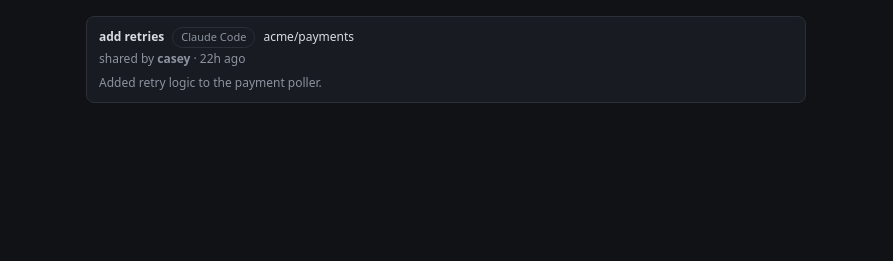
it: TeamView › opens the read-only record with artifact and transcript, and goes back
The width and height of the screenshot is (893, 261).
Click the button with test id "team-row": x=132, y=37 [86,16,806,102]
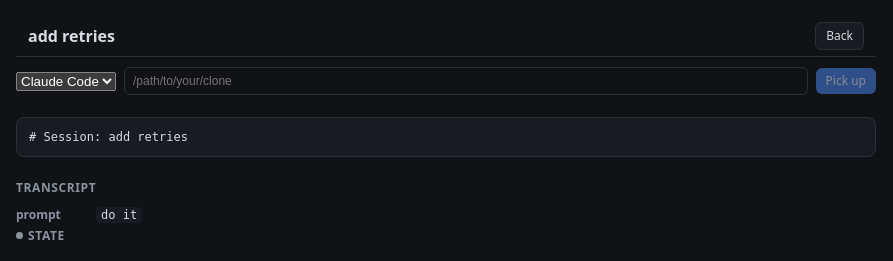
Expected: the text with test id "team-markdown" reads "# Session: add retries", [29,130,188,144]
Expected: the list with test id "team-transcript" shows "prompt", [16,206,61,223]
Expected: the list with test id "team-transcript" shows "do it", [101,208,137,222]
Click the button with test id "team-back": x=840, y=36 [815,22,864,50]
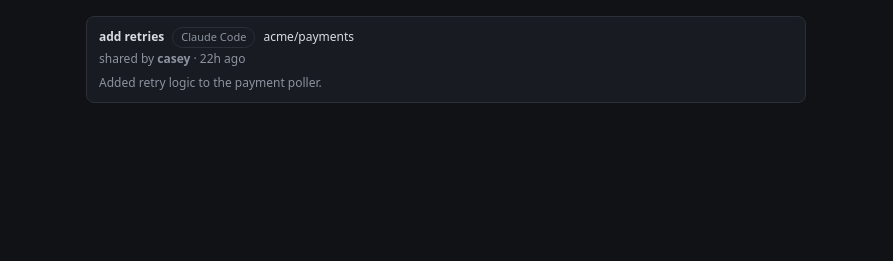
Expected: the button with test id "team-row" is shown, [86,16,806,102]
